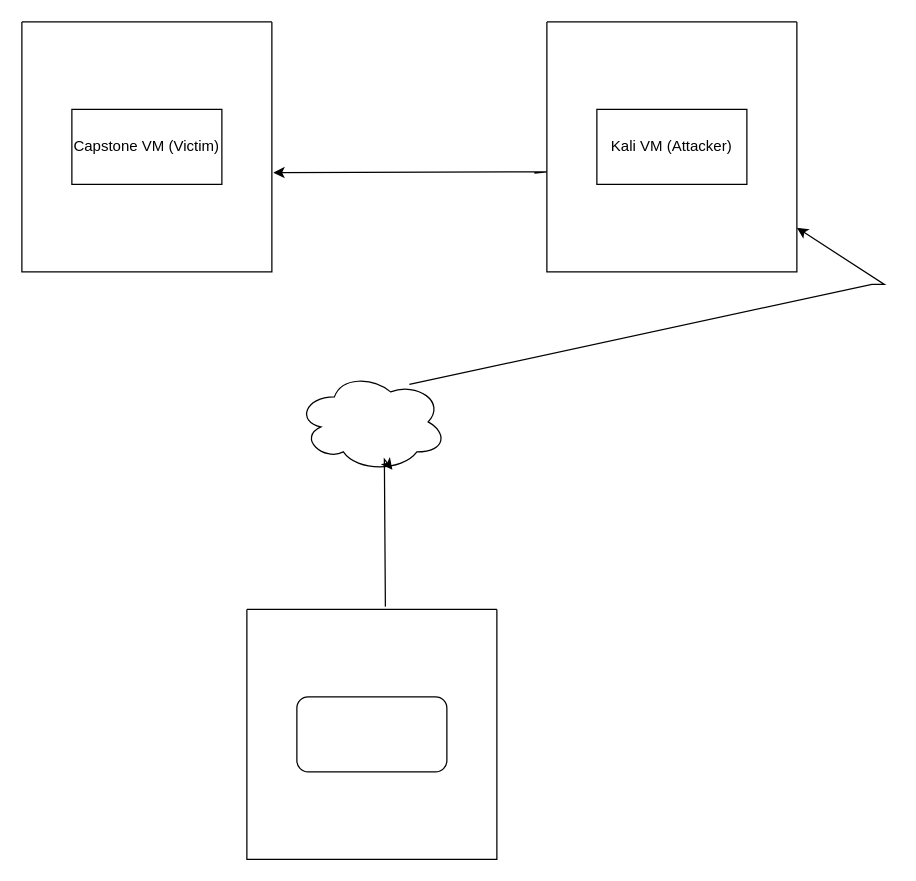
Image size: 916x881. Some labels were removed from this diagram. The shapes that lost their labels are listed below. From the top down, each one's centre as x and y in pixels, then its label:
the point at 371,421: Internet
the point at 371,734: User Local Machine
